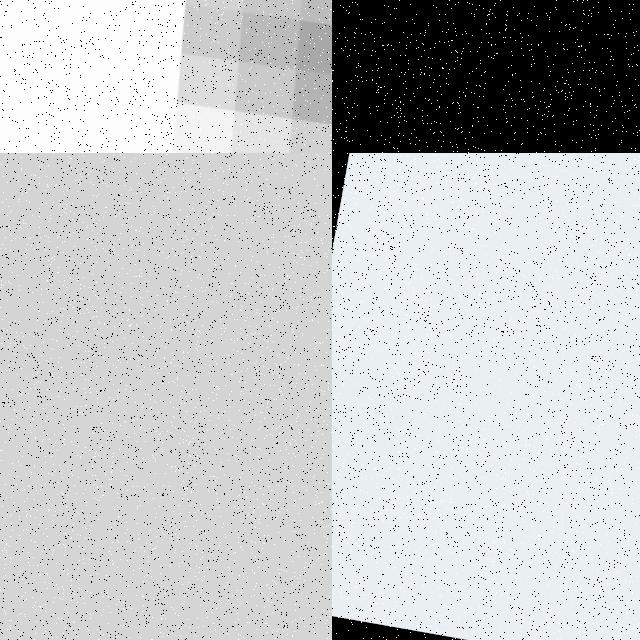drone: (0, 0, 332, 153)
